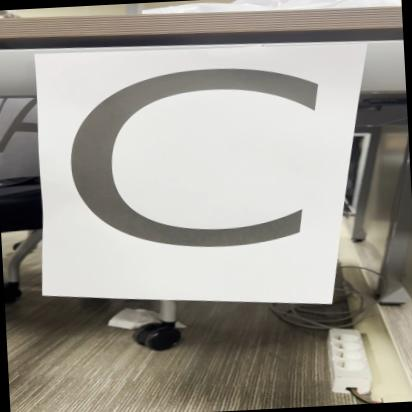seat: (44, 41, 349, 324)
